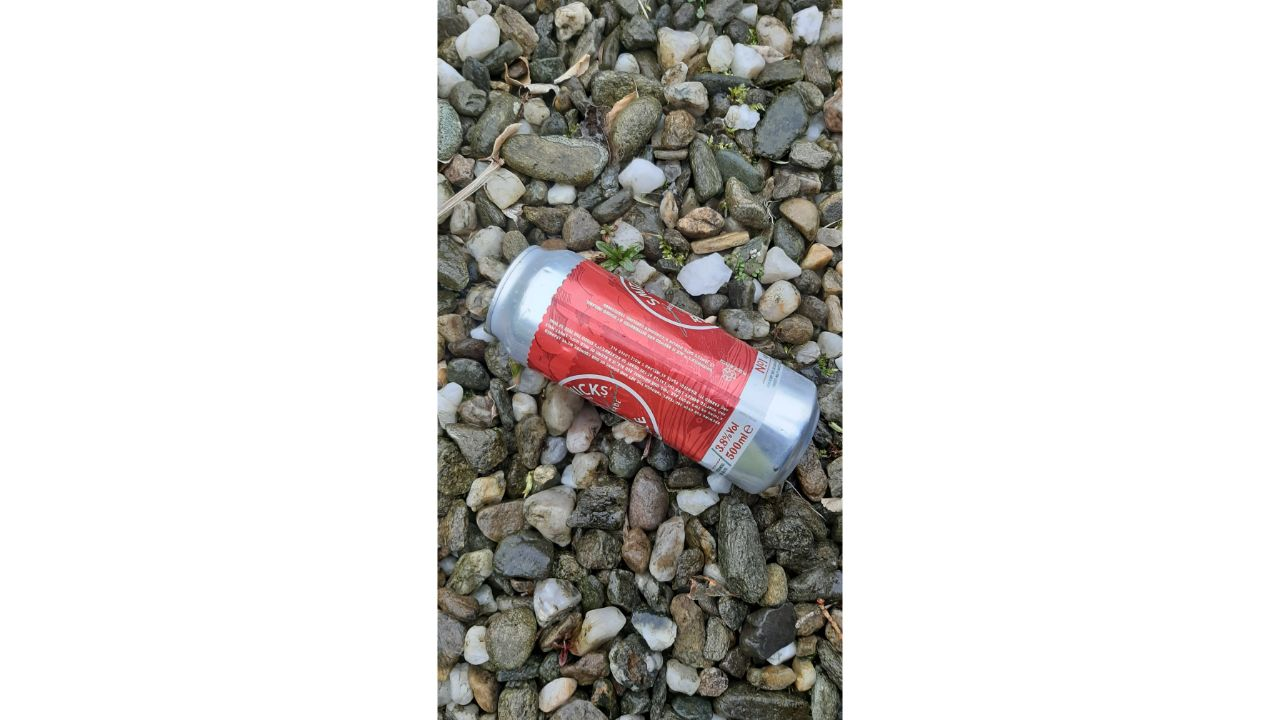Can: (483, 246, 825, 497)
